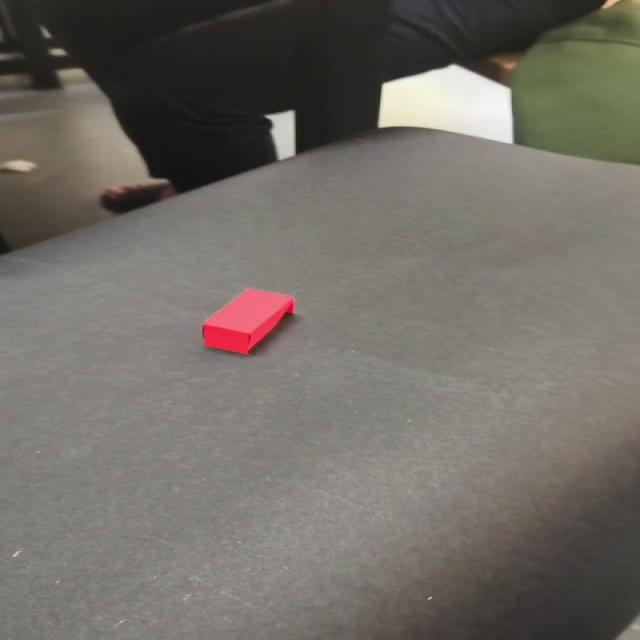red block: (200, 287, 295, 355)
